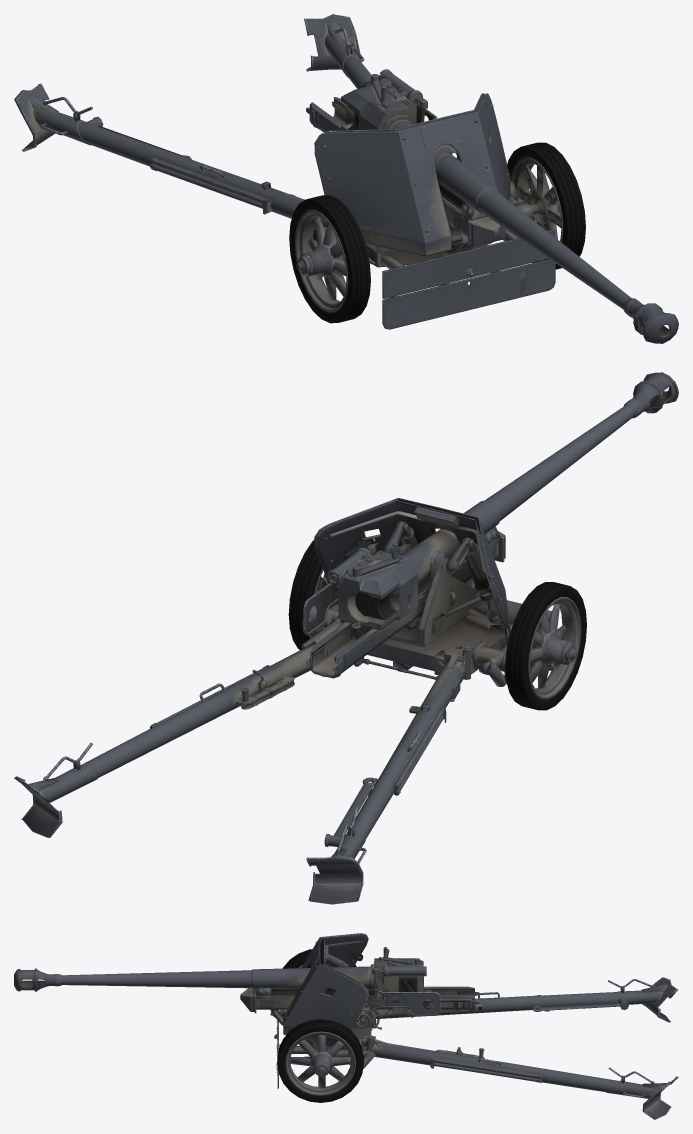
Rendered from pak40_75mm_canon__ww2.glb.
3 renders of one model, top to bottom at view 1: azimuth 30°, elevation 25°; view 2: azimuth 150°, elevation 25°; view 3: azimuth 270°, elevation 25°, orthographic. The views are drawn at different scales.
Parts seen in each view (by area): view 1: pak40; view 2: pak40; view 3: pak40.
Boxes of the visible parts, x1=… form: pak40: x1=14, y1=14, x2=678, y2=343; pak40: x1=14, y1=372, x2=678, y2=904; pak40: x1=14, y1=933, x2=678, y2=1119.
Size of the model in its own units: 2.53 by 1.24 by 6.41.
2 materials, 2 textured.
